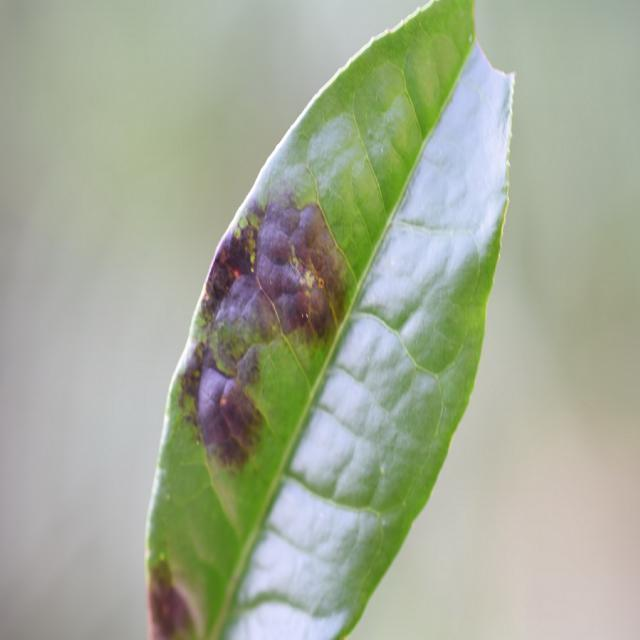Tea exobasidium blight: (182, 206, 337, 433)
